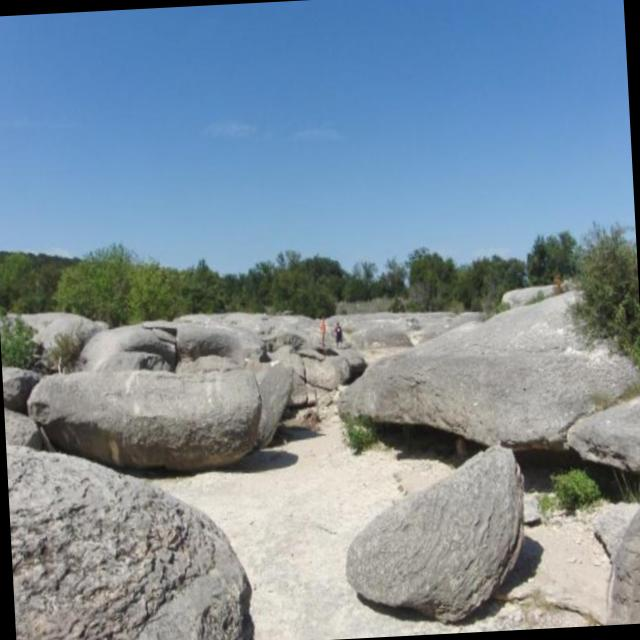rocks: (2, 312, 480, 472)
stone: (6, 447, 255, 640), (340, 293, 639, 448), (346, 446, 524, 622), (568, 395, 640, 473), (607, 507, 640, 625)
